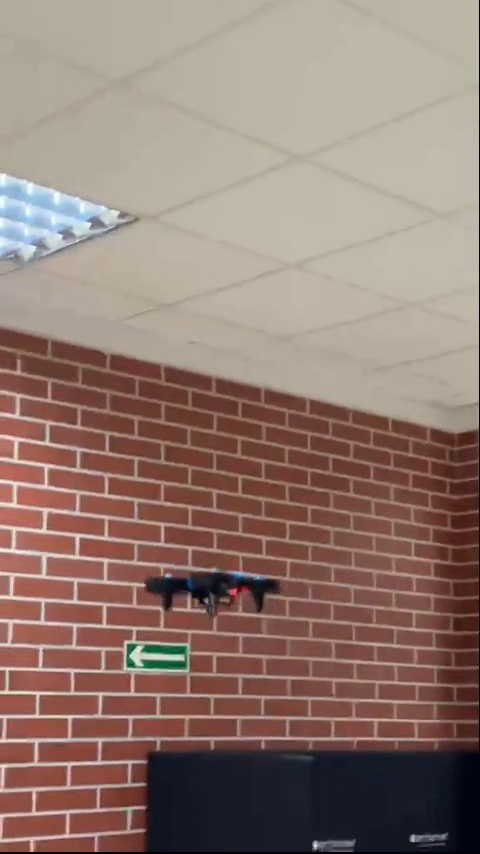drone: (141, 568, 279, 616)
